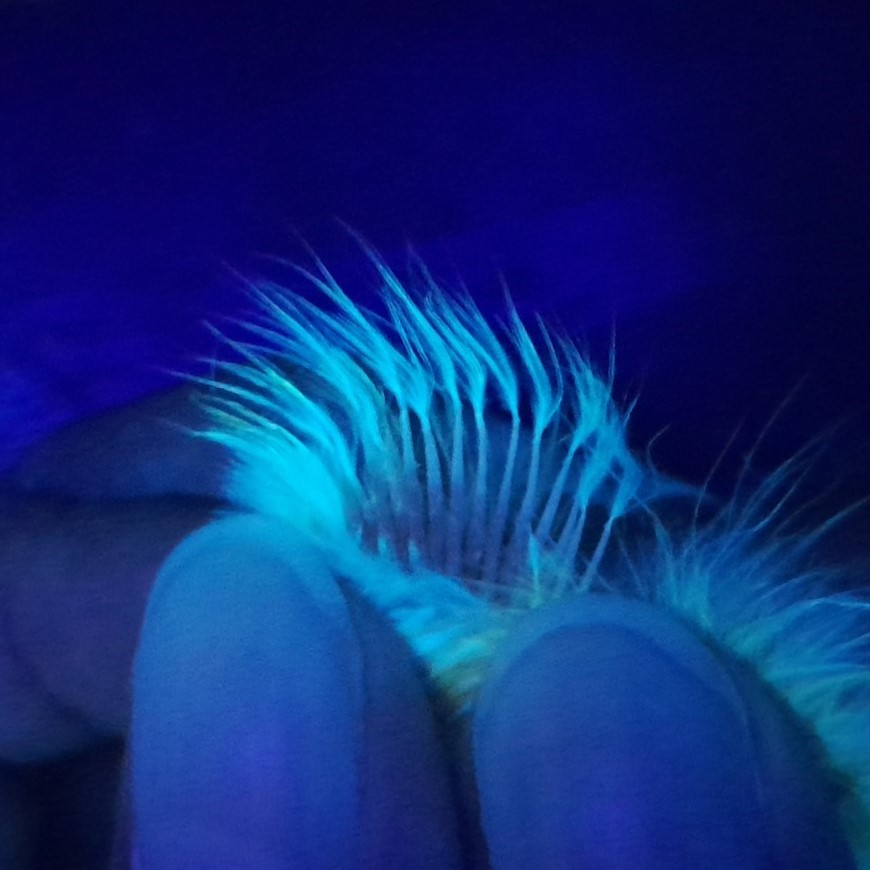male: (333, 371, 647, 646)
